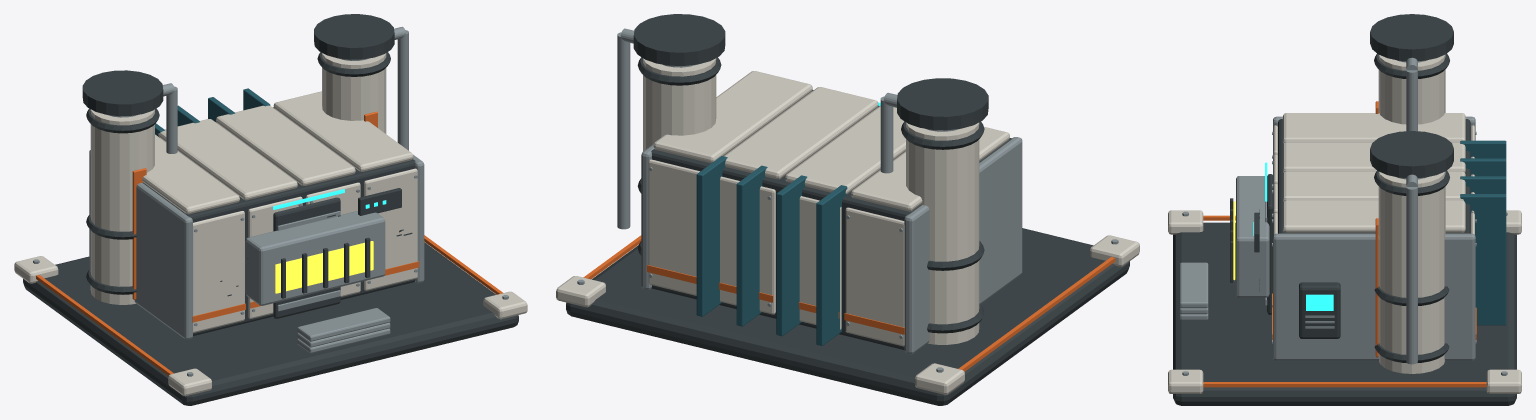
Rendered from SM_Glassworks_Body.001.fbx.
3 views of the same model, side by side, from view 1: azimuth 30°, elevation 25°; view 2: azimuth 150°, elevation 25°; view 3: azimuth 270°, elevation 25° (orthographic). The views are drawn at different scales.
Visible parts, largest first — view 1: SM_Glassworks_Body.001; view 2: SM_Glassworks_Body.001; view 3: SM_Glassworks_Body.001.
Boxes of the visible parts, left/top/right/bottom form: SM_Glassworks_Body.001: left=14, top=14, right=527, bottom=405; SM_Glassworks_Body.001: left=556, top=14, right=1139, bottom=405; SM_Glassworks_Body.001: left=1168, top=14, right=1521, bottom=405.
Bounding box in the file's own units: 492 × 422 × 308.
